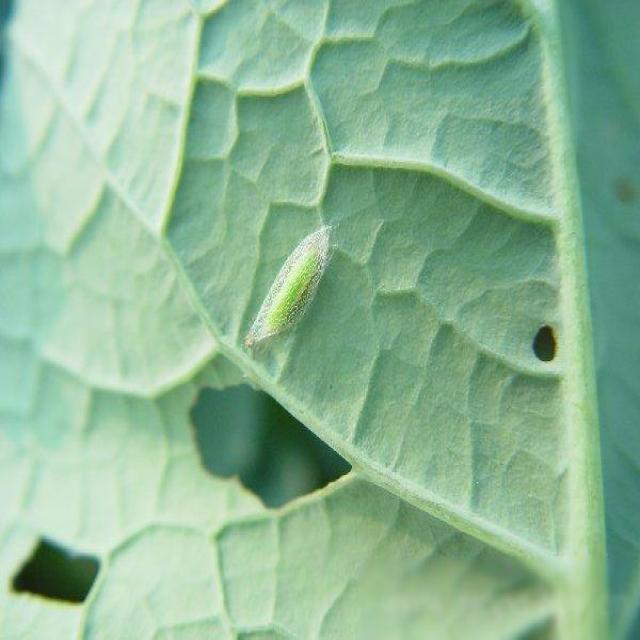armyworm: (254, 220, 352, 376)
